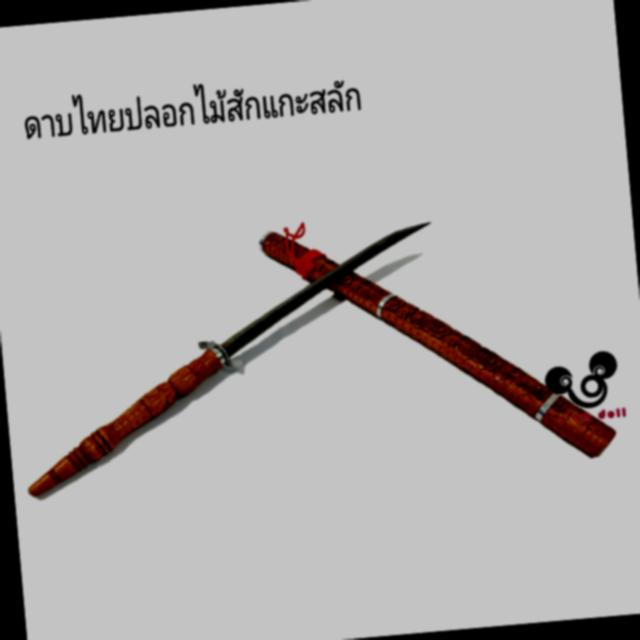long sword: (6, 212, 453, 502)
